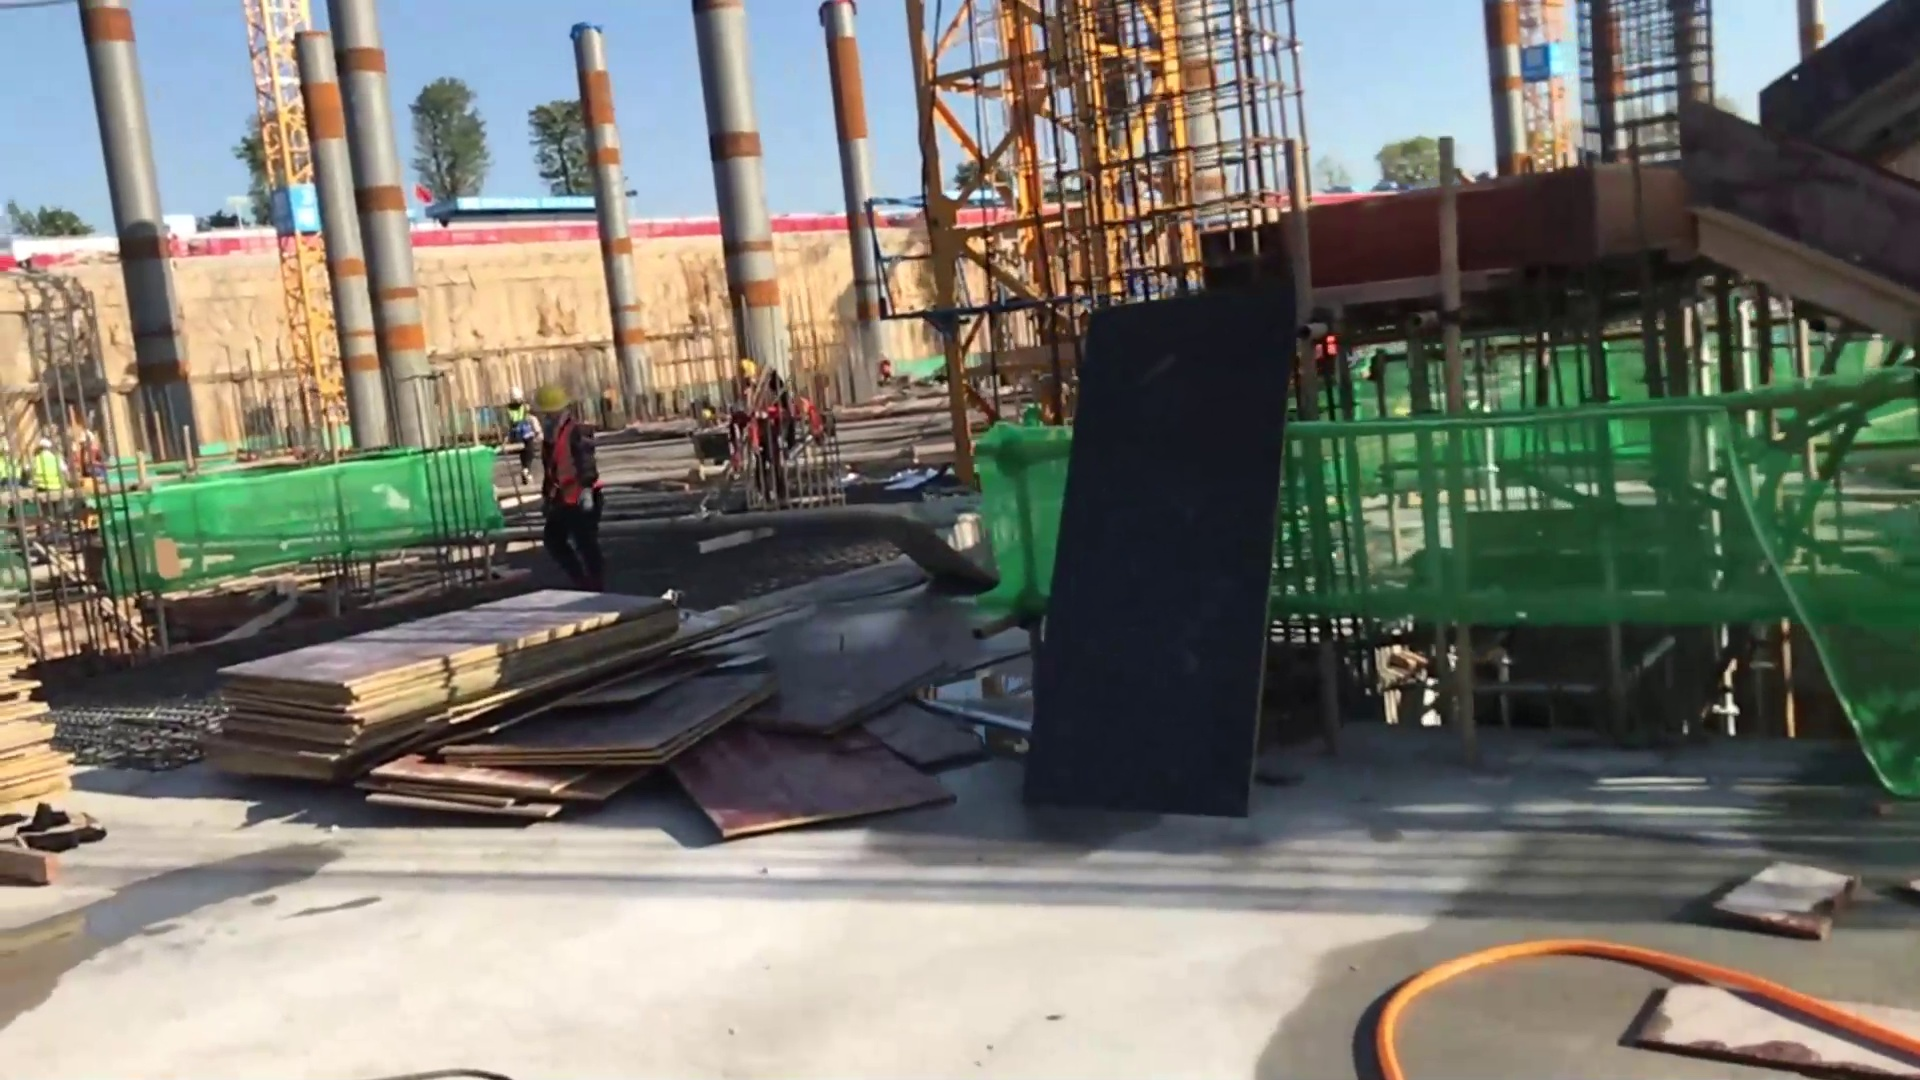board: (219, 585, 944, 822), (1, 613, 86, 811)
helmet: (538, 388, 572, 411)
person: (532, 387, 605, 579), (732, 358, 790, 506), (504, 381, 536, 492), (25, 442, 65, 519)
vest: (537, 422, 592, 511)
